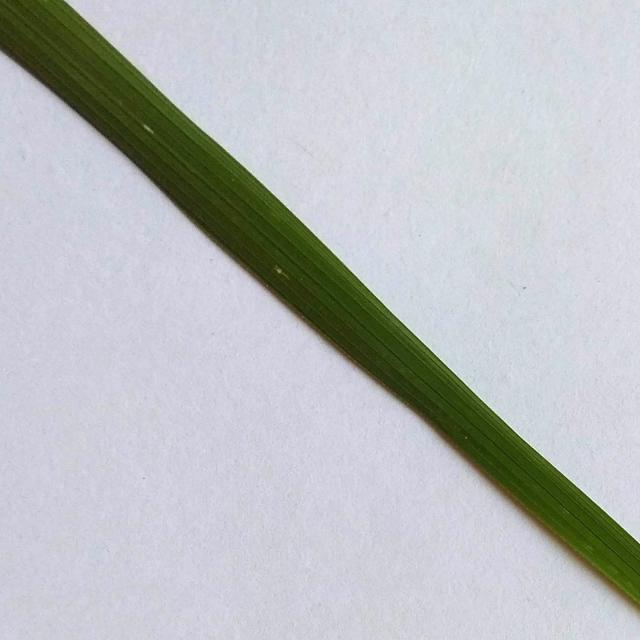healthy: (2, 2, 636, 620)
